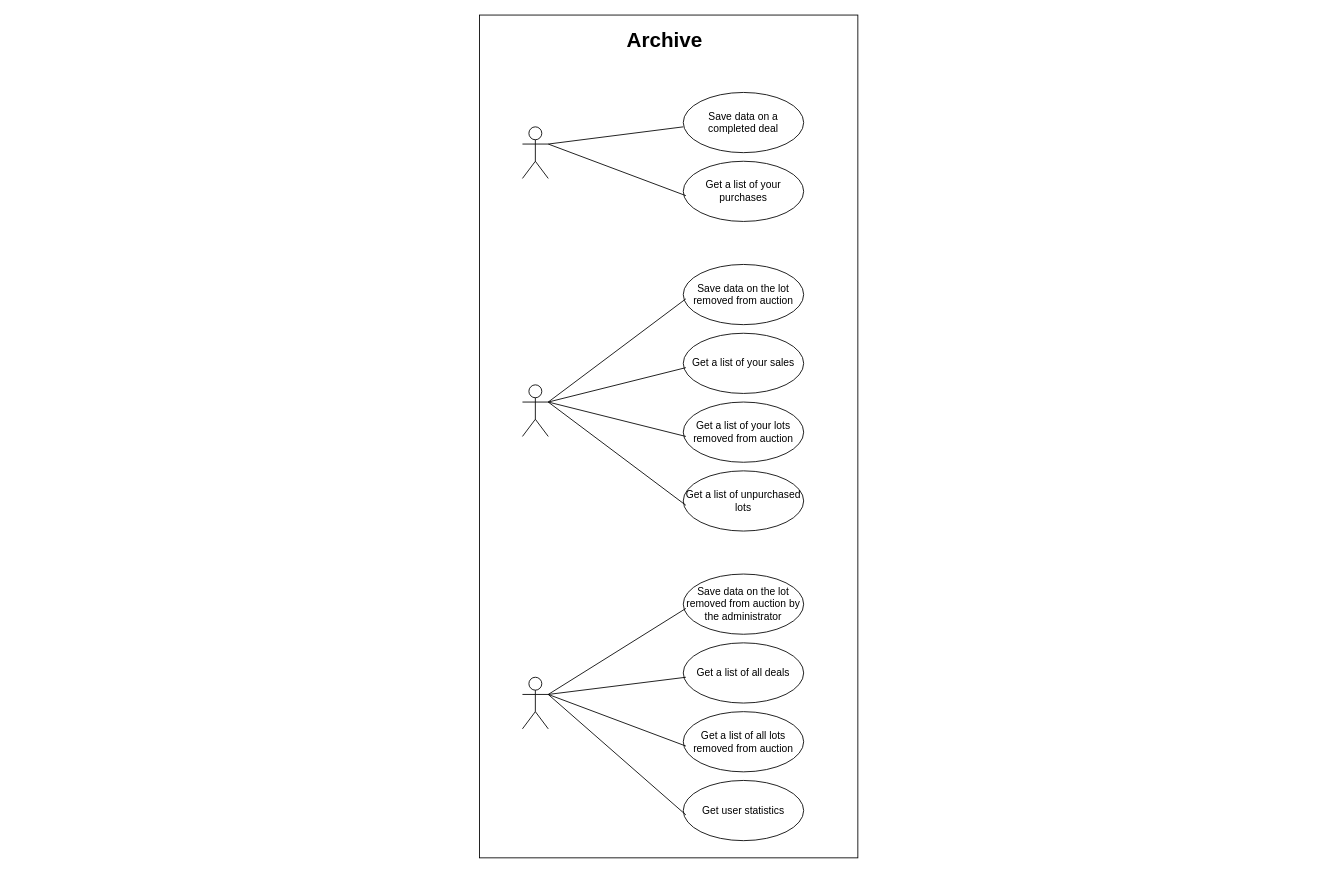
Image size: 1328x873. Some labels were removed from this diagram. The shapes that lost their labels are listed below. From the top down, each one's box as (x1, y1, x2, y2) in pixels, then its label:
(522, 126, 548, 178): Buyer
(522, 384, 548, 436): Salesman
(522, 676, 548, 729): Administrator
